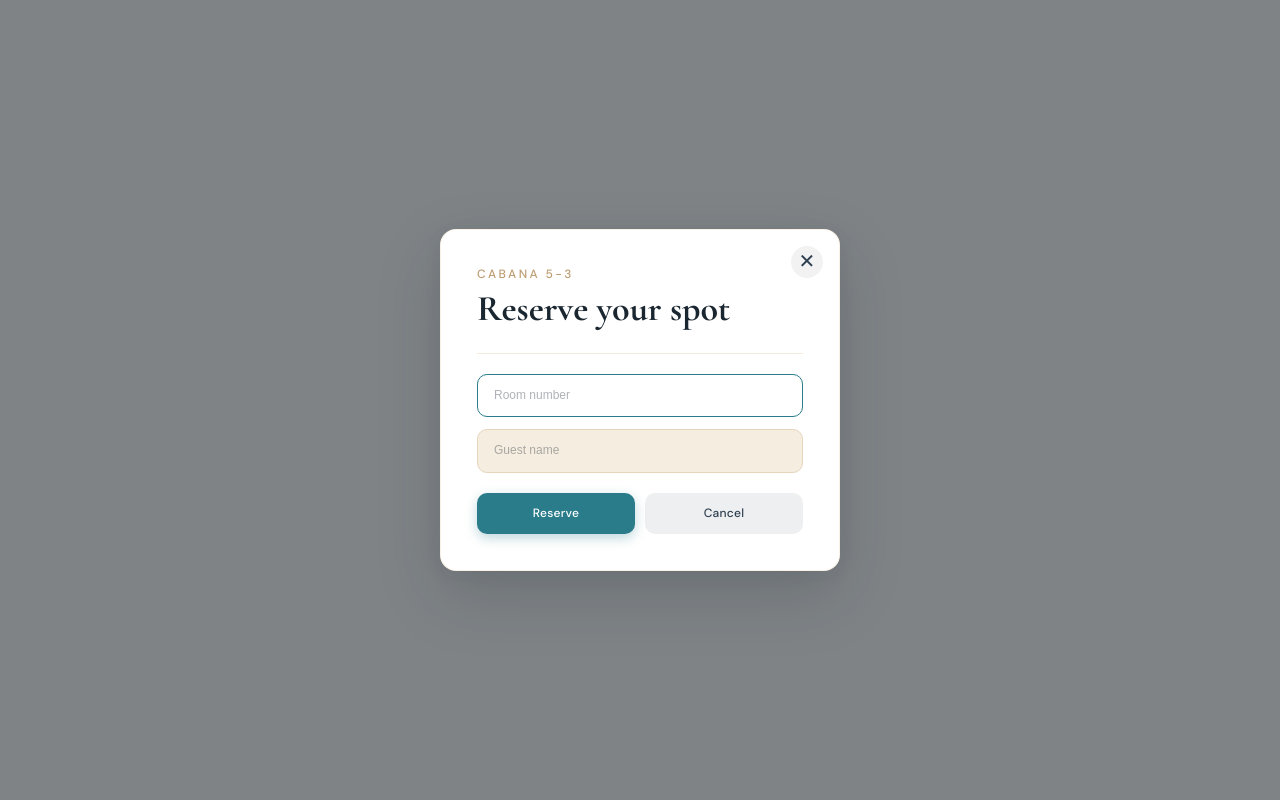
CabanaModal › shows error if fields are empty
The width and height of the screenshot is (1280, 800).
Click the button "Reserve".
click(556, 513)  # box [477,493,635,534]
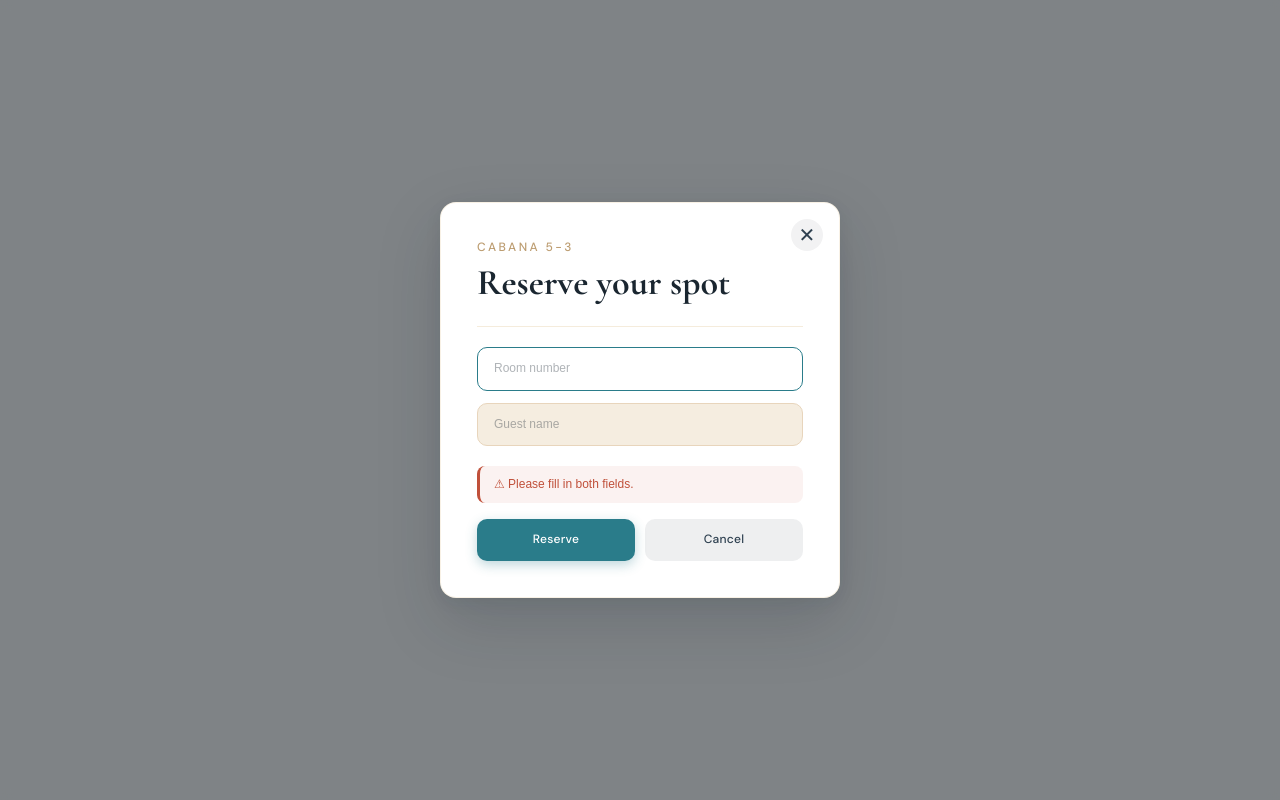
Expected: the text "⚠ Please fill in both fields." is shown, [477,466,803,503]
